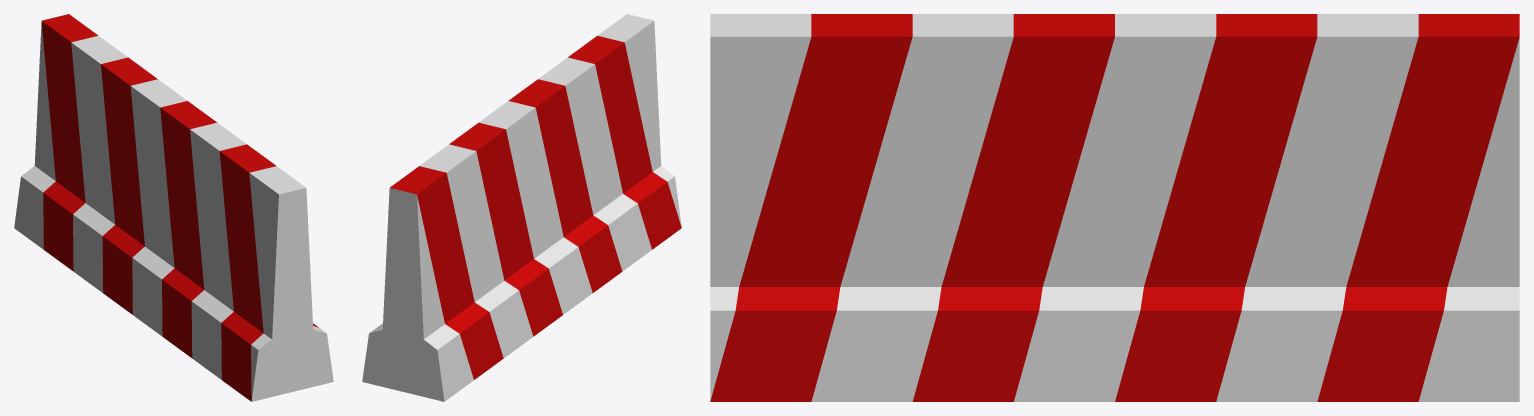
File: Fence_concrete_free.fbx
3 renders of one model, left to right at view 1: azimuth 30°, elevation 25°; view 2: azimuth 150°, elevation 25°; view 3: azimuth 270°, elevation 25°, orthographic. The views are drawn at different scales.
Parts seen in each view (by area): view 1: Fence_concrete_free; view 2: Fence_concrete_free; view 3: Fence_concrete_free.
Boxes of the visible parts, left/top/right/bottom form: Fence_concrete_free: left=14, top=14, right=333, bottom=401; Fence_concrete_free: left=362, top=14, right=681, bottom=401; Fence_concrete_free: left=710, top=14, right=1519, bottom=401.
Bounding box in the file's own units: 60 × 140 × 300.
